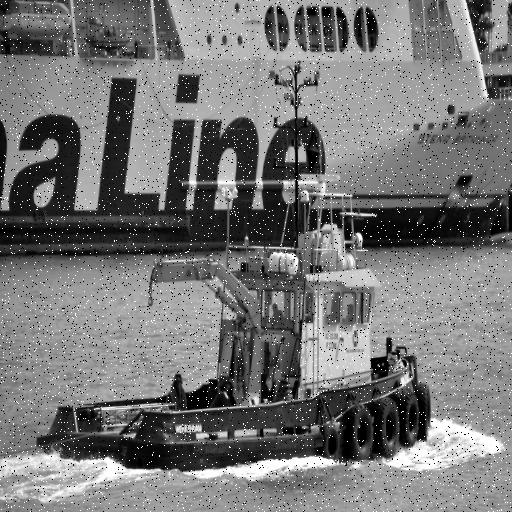tugboat: (34, 169, 435, 486)
